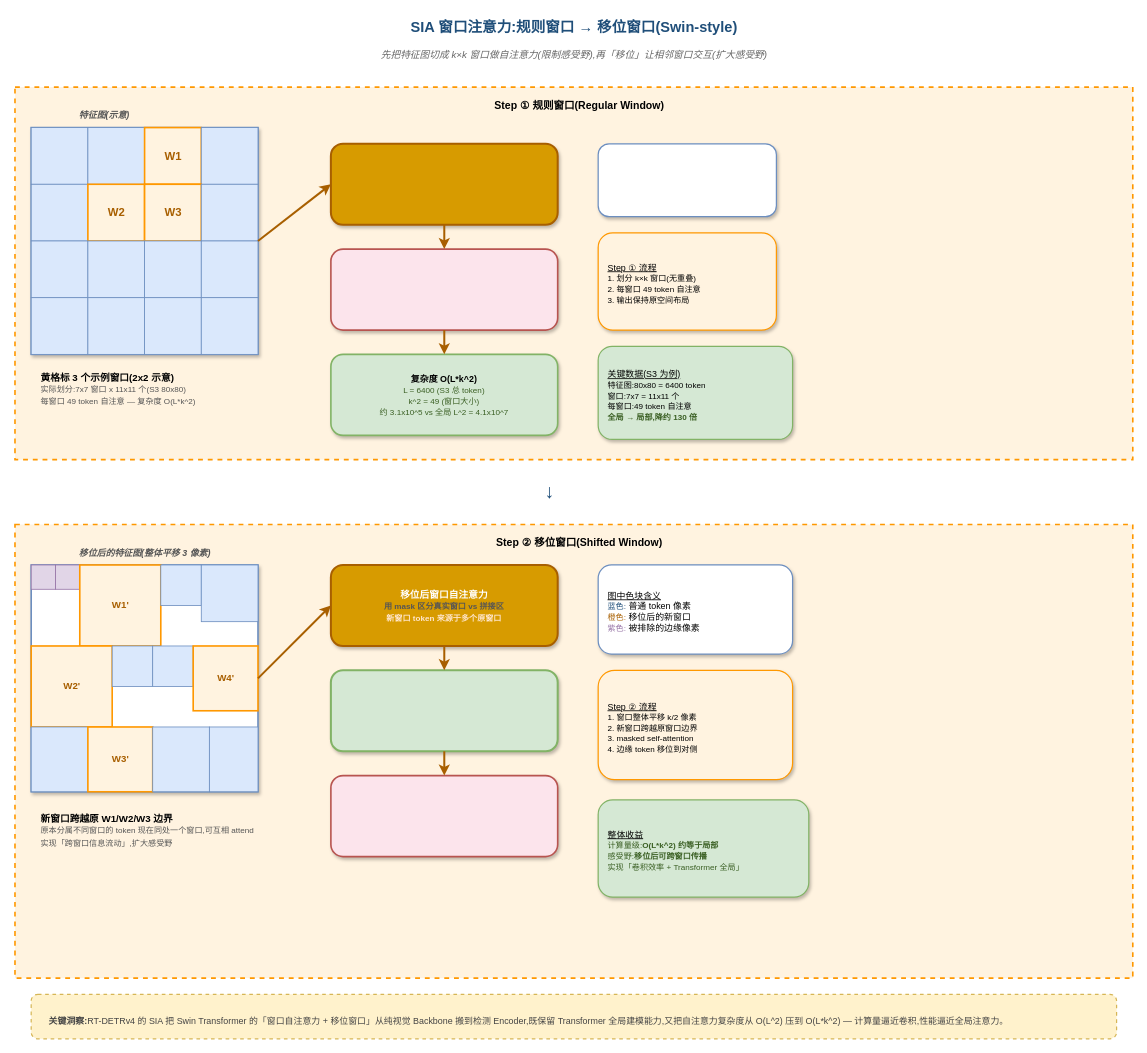
Some shapes in this 1147 by 1053 pixel diagram are drawn without their labels. Each missing label, with the centre of its shape:
"图中色块含义 蓝色: 普通 token 像素 橙色: 标记的窗口示例" goes at (x=687, y=181).
"效果:窗口间信息交互 每个 token 间接看到更多邻居 感受野扩大到 14x14 像素级" goes at (x=444, y=712).
"窗口内自注意力 每个 7x7 窗口独立算 Self-Attention Q,K,V 都来自同一窗口的 49 token" goes at (x=444, y=185).
"设计灵感:Swin Transformer Liu et al. 2021, ICCV Best Paper 用最小计算代价获得「窗口级全局」" goes at (x=444, y=817).
"问题:窗口间不交互 感受野被限制在 7x7 内 信息无法跨窗口流动" goes at (x=444, y=290).
